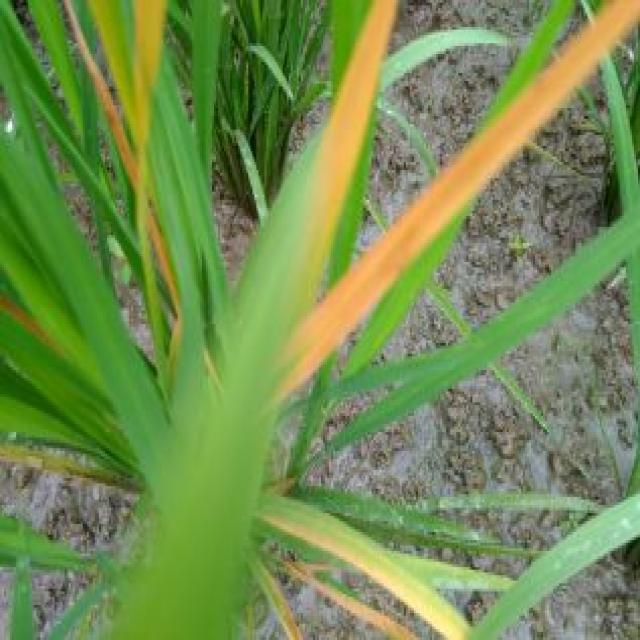Tungro: (295, 2, 636, 393), (40, 3, 180, 343), (277, 188, 483, 404), (283, 0, 412, 305), (472, 0, 637, 188), (258, 498, 430, 597), (272, 550, 444, 640), (118, 96, 172, 376), (75, 0, 147, 165), (125, 1, 175, 163), (0, 430, 130, 486), (0, 281, 85, 364), (141, 193, 182, 328), (571, 0, 640, 76)
